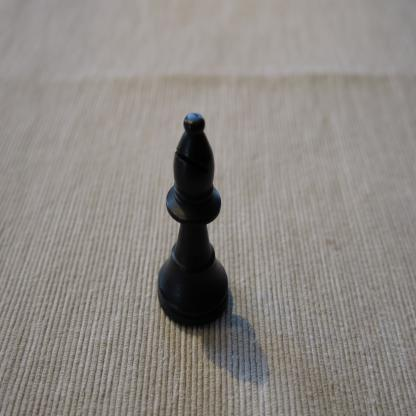black-bishop: (157, 111, 229, 329)
